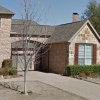Chimney: (67, 10, 81, 23)
